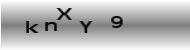9: (109, 15, 124, 29)
X: (56, 7, 73, 21)
Y: (79, 20, 93, 34)
k: (24, 20, 40, 35)
n: (44, 21, 59, 32)
